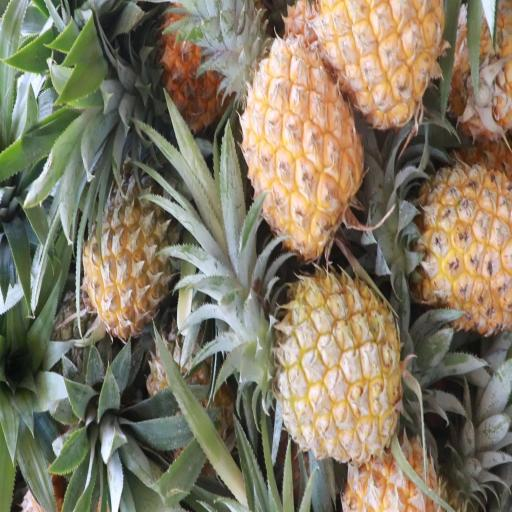Pineapple - v8 v1: (232, 36, 366, 257), (264, 262, 402, 465), (367, 156, 512, 328), (76, 152, 166, 341)
